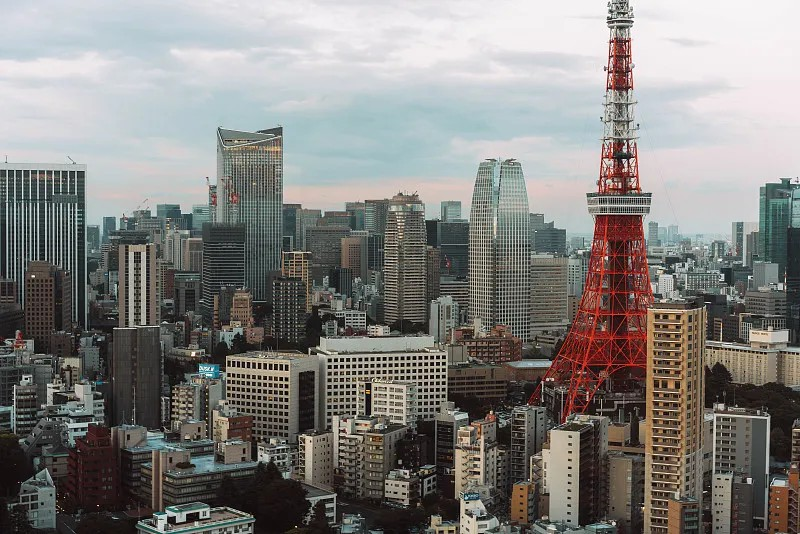Tokyo: (523, 1, 652, 419)
